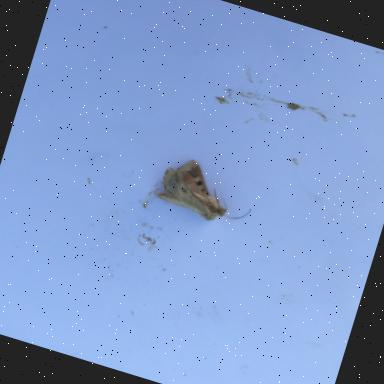abw: (146, 146, 265, 237)
